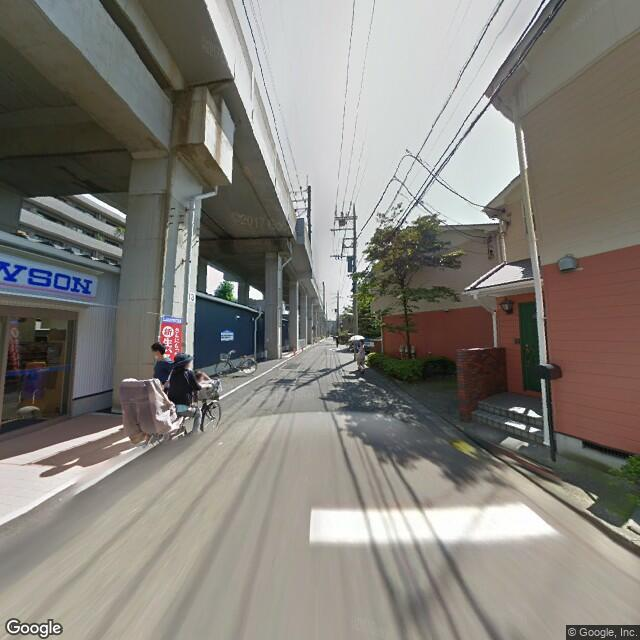lawson: (1, 246, 99, 302)
